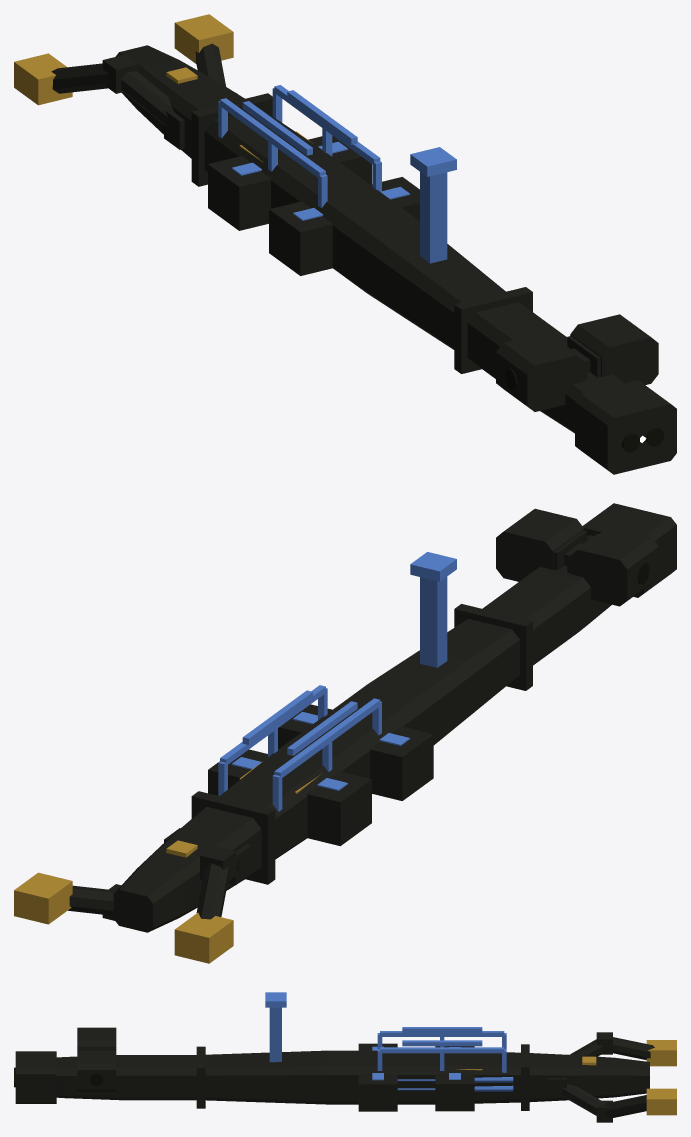
The picture shows the model from 3 angles, top to bottom: view 1: azimuth 30°, elevation 25°; view 2: azimuth 150°, elevation 25°; view 3: azimuth 270°, elevation 25°; orthographic projection. The views are drawn at different scales.
Parts seen in each view (by area): view 1: RIMWARD_HULL; view 2: RIMWARD_HULL; view 3: RIMWARD_HULL.
Boxes of the visible parts, bbox=[...] form: RIMWARD_HULL: bbox=[14, 14, 676, 474]; RIMWARD_HULL: bbox=[14, 503, 676, 963]; RIMWARD_HULL: bbox=[14, 992, 676, 1122].
Bounding box in the file's own units: 1.58 × 1.34 × 7.46.
